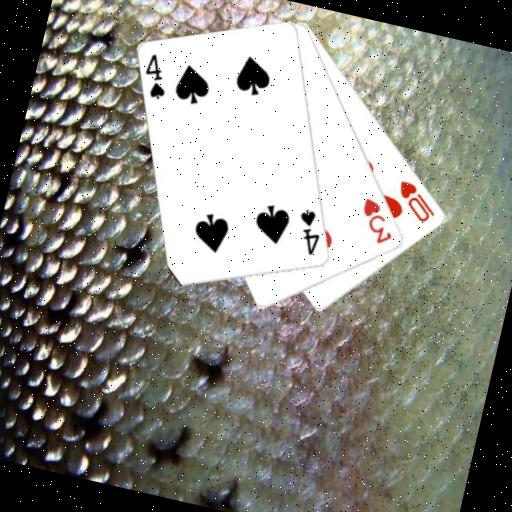10H: (390, 177, 443, 227)
3H: (352, 194, 402, 249)
4S: (289, 205, 328, 259), (137, 49, 176, 103)
